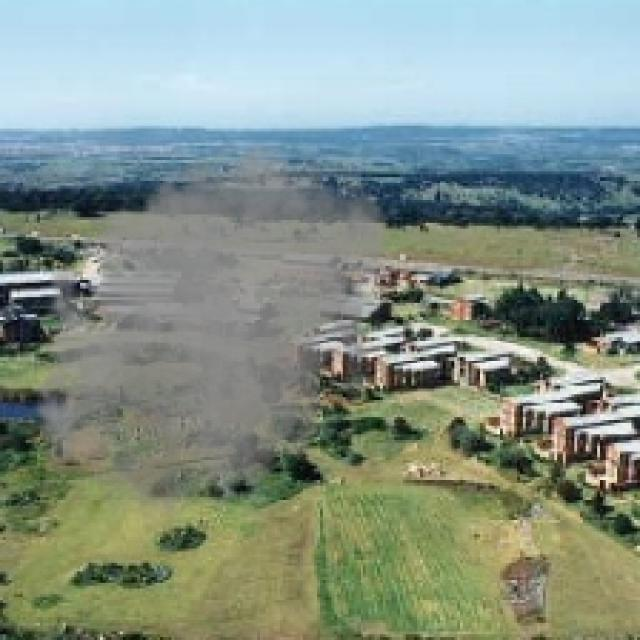smoke: (23, 131, 394, 543)
